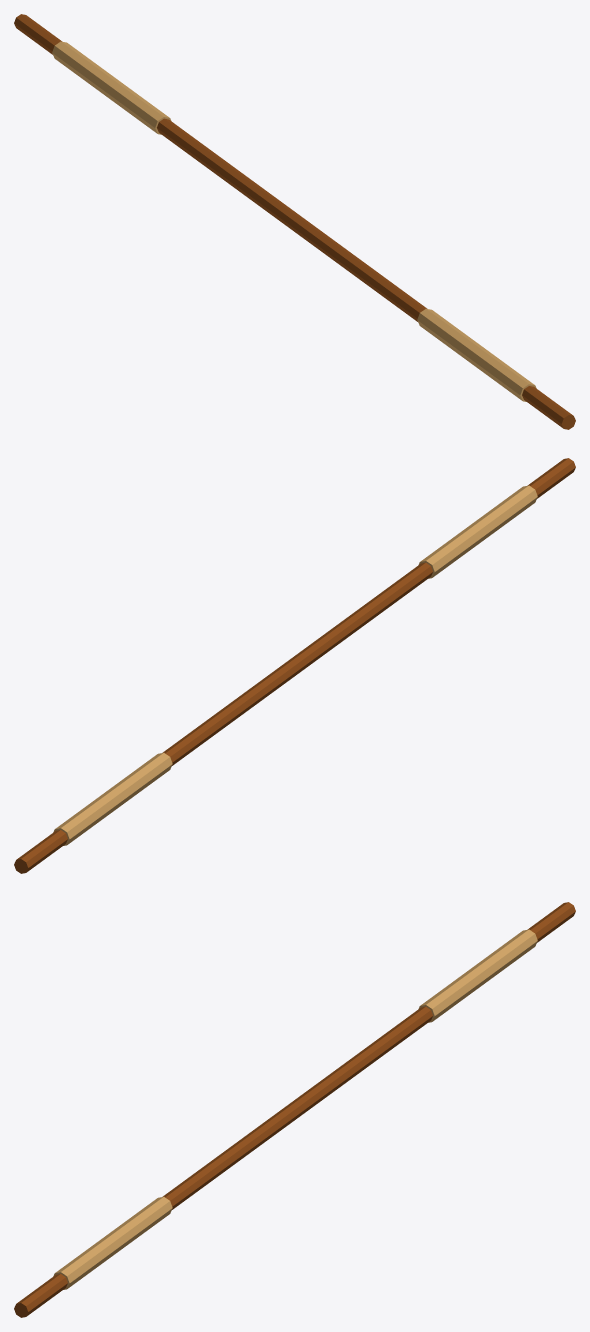
The model's file is Bo Staff - Textured Low Poly Asian Weapon Pack - by Kickin It Studios.fbx.
3 renders of one model, top to bottom at view 1: azimuth 30°, elevation 25°; view 2: azimuth 150°, elevation 25°; view 3: azimuth 330°, elevation 25°, orthographic.
Visible parts, largest first — view 1: Bo Staff; view 2: Bo Staff; view 3: Bo Staff.
Boxes of the visible parts, left/top/right/bottom form: Bo Staff: left=14, top=14, right=575, bottom=429; Bo Staff: left=14, top=458, right=575, bottom=873; Bo Staff: left=14, top=902, right=575, bottom=1317.
Size of the model in its own units: 23.33 by 23.33 by 1258.
